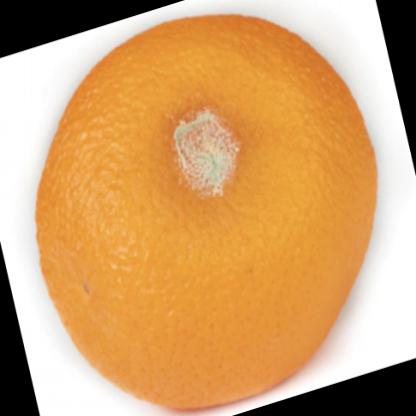rotten_orange: (34, 13, 383, 411)
